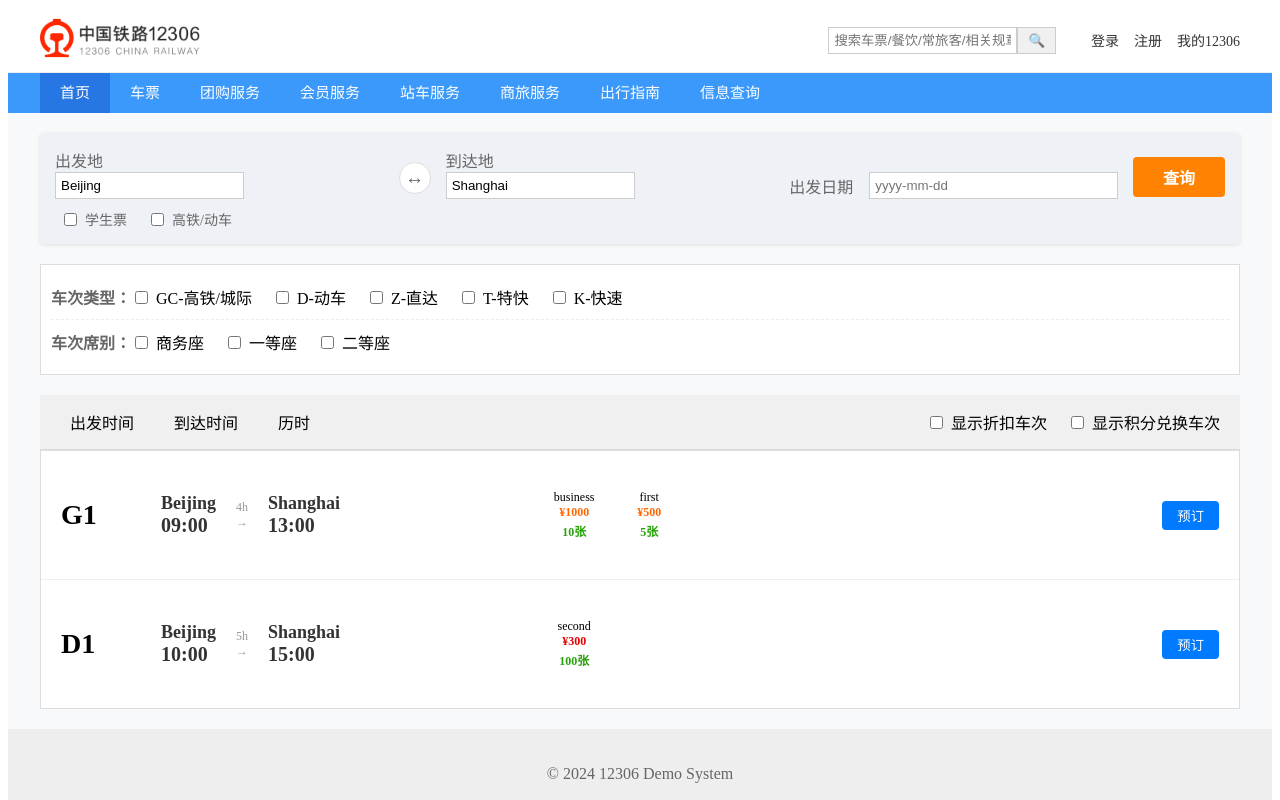
Test: SearchResultPage Integration › filters by special flags
Check: the heading "G1" is shown, box x1=61 y1=499 x2=97 y2=530
Check: the heading "D1" is shown, box x1=61 y1=628 x2=95 y2=659
Click the checkbox labelled "显示折扣车次" at (936, 422), box x1=930 y1=416 x2=943 y2=428
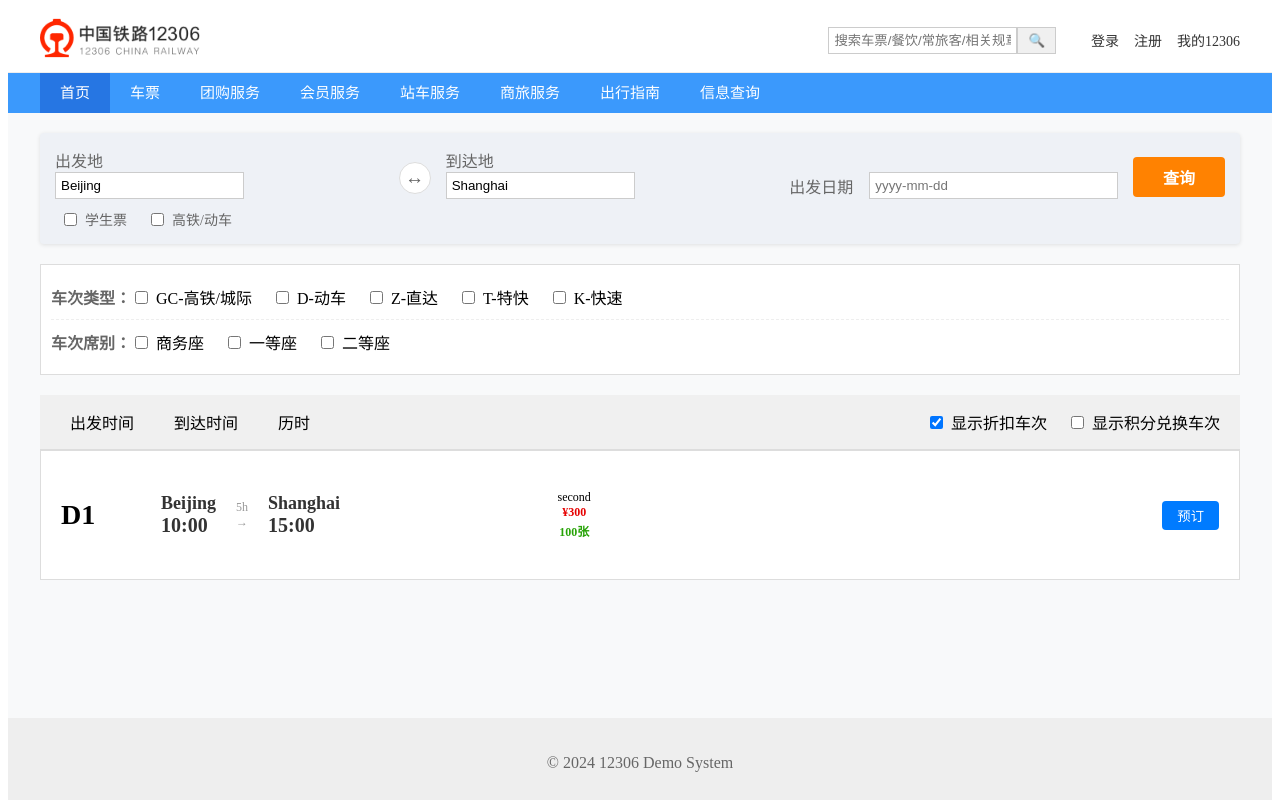
Check: the heading "D1" is shown, box x1=61 y1=499 x2=95 y2=530
Check: the heading "G1" is gone
